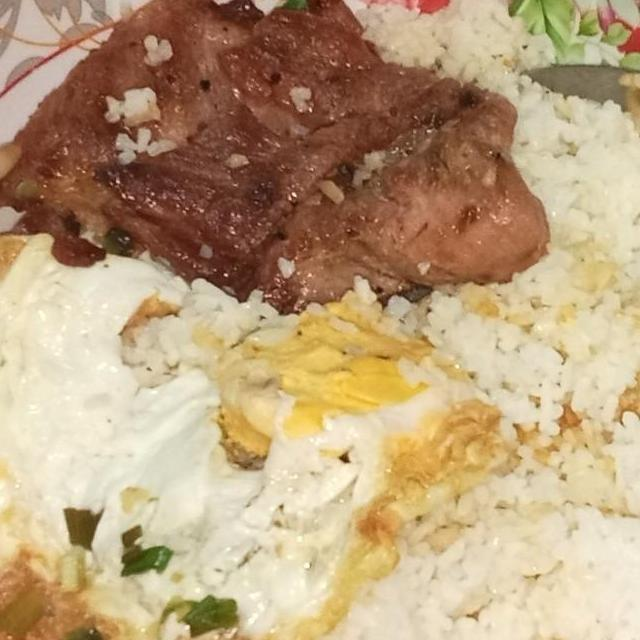com: (392, 222, 640, 543), (349, 0, 640, 262), (330, 399, 640, 640)
suon: (0, 0, 556, 319)
trung: (0, 217, 501, 640)
